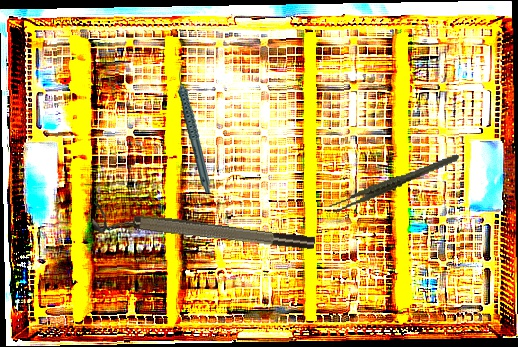Fixation Ring: (91, 202, 316, 263)
Handpiece: (177, 67, 211, 193)
Tissue Forceps: (324, 153, 465, 214)
